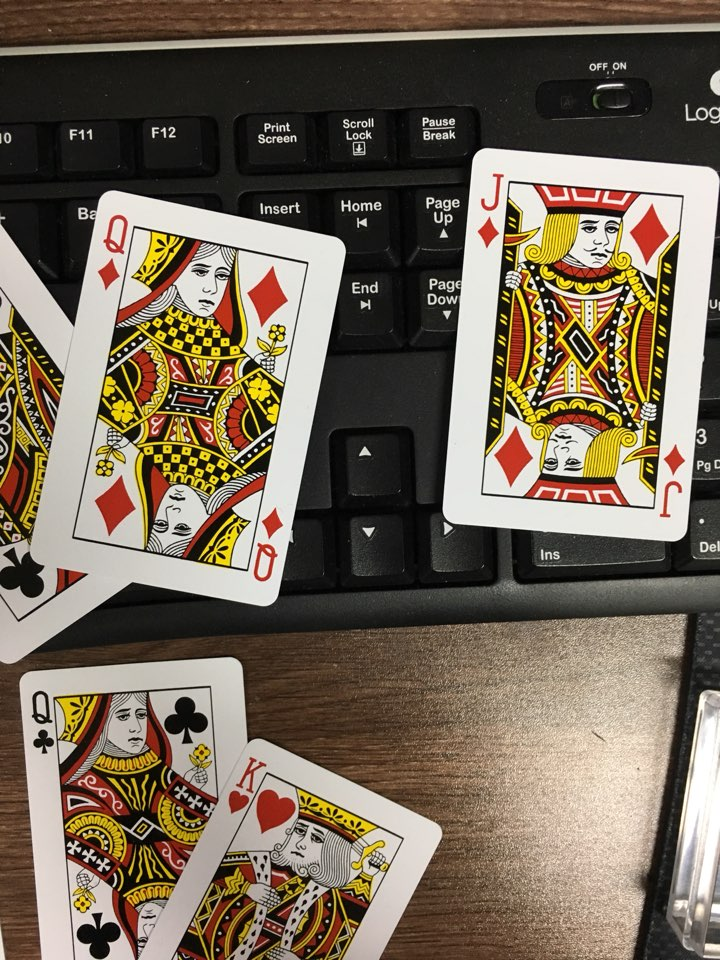jack: (418, 122, 720, 556)
king: (123, 719, 466, 960)
queen: (21, 174, 358, 622), (12, 650, 264, 960)
